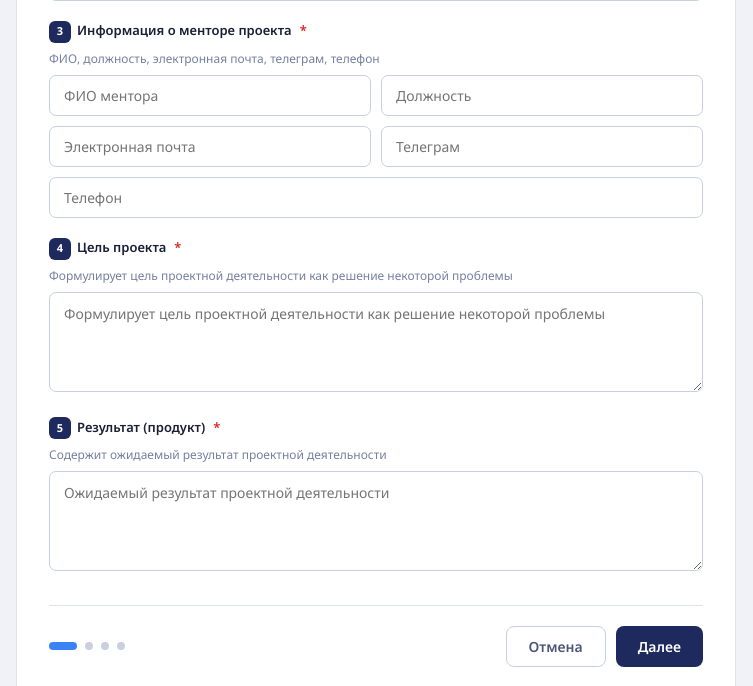
Test: NewProjectForm › Next is blocked until required fields of section 0 are filled
(page scrolled)
Click the button with test id "form-next": (659,646) [616,626,703,666]
(page scrolled)
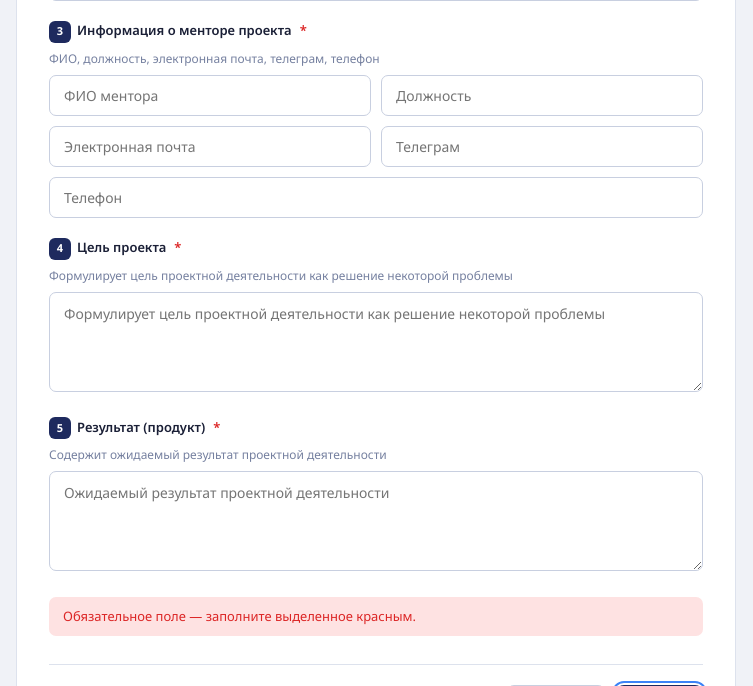
Check: the message shows "Обязательное поле", box [63,606,416,624]
